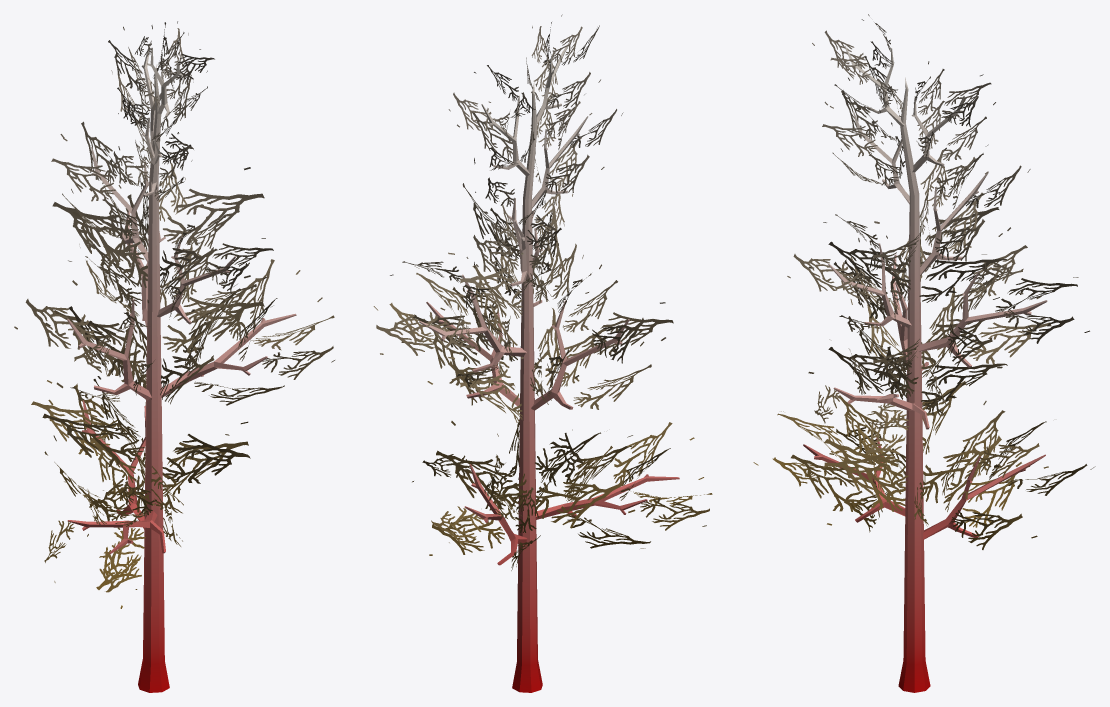
Rendered from synty-tree-birch-dead-01.gltf.
3 views of the same model, side by side, from view 1: azimuth 30°, elevation 25°; view 2: azimuth 150°, elevation 25°; view 3: azimuth 270°, elevation 25° (orthographic). The views are drawn at different scales.
Parts seen in each view (by area): view 1: SM_Tree_Birch_Dead_01; view 2: SM_Tree_Birch_Dead_01; view 3: SM_Tree_Birch_Dead_01.
Boxes of the visible parts, left/top/right/bottom form: SM_Tree_Birch_Dead_01: left=14, top=21, right=334, bottom=692; SM_Tree_Birch_Dead_01: left=373, top=14, right=712, bottom=692; SM_Tree_Birch_Dead_01: left=753, top=14, right=1095, bottom=692.
Bounding box in the file's own units: 2.16 × 4.49 × 2.1.
Materials: 2 (2 with a texture image).
